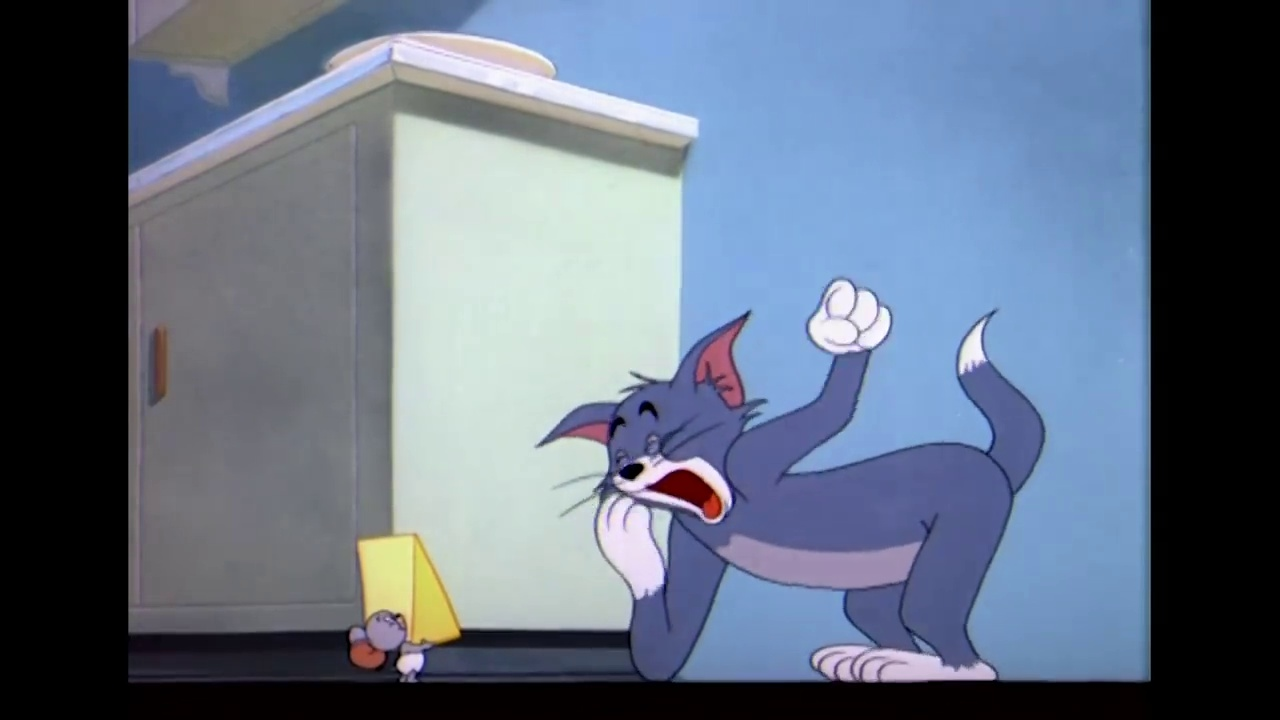tom: (533, 300, 768, 534)
